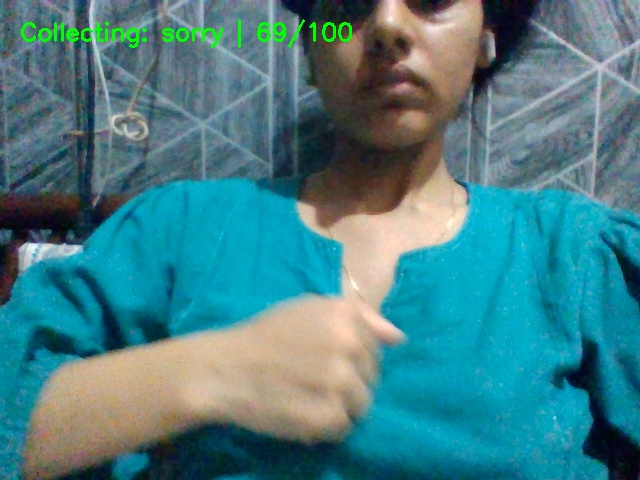sorry: (195, 282, 424, 462)
